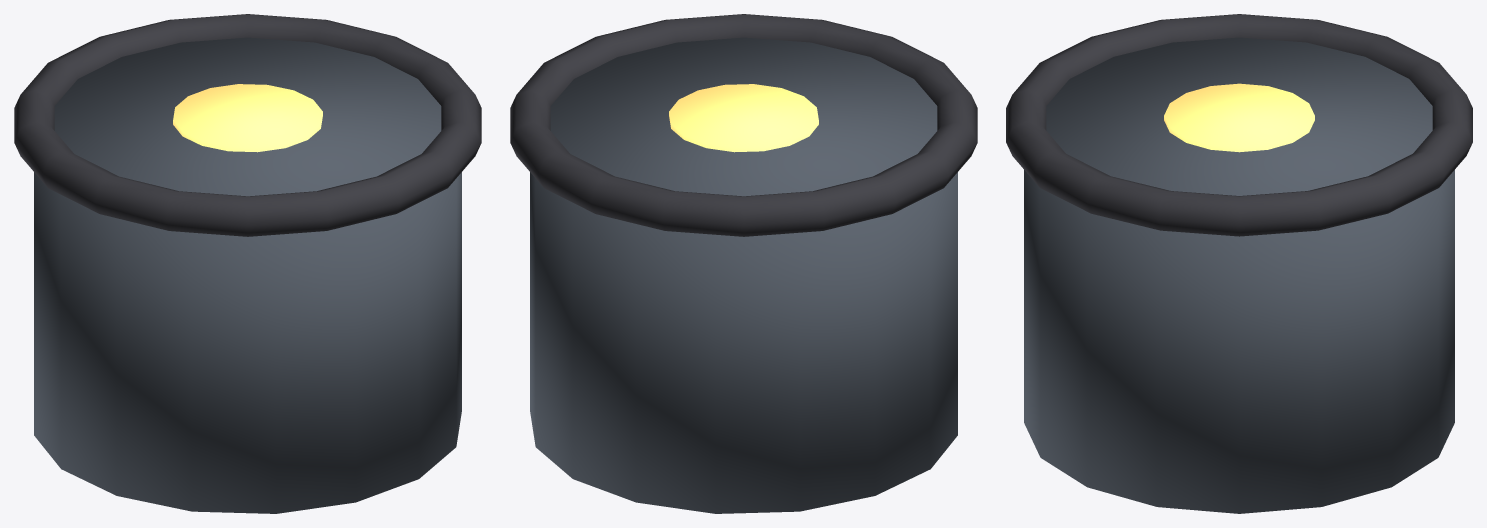
File: prop_hibachi.glb
3 views of the same model, side by side, from view 1: azimuth 30°, elevation 25°; view 2: azimuth 150°, elevation 25°; view 3: azimuth 270°, elevation 25° (orthographic).
Visible parts, largest first — view 1: hibachi; view 2: hibachi; view 3: hibachi.
Boxes of the visible parts, x1,y1,x2,y2 form: hibachi: (14,14,481,513); hibachi: (510,14,977,513); hibachi: (1006,14,1472,513).
Size of the model in its own units: 0.88 by 0.65 by 0.8666.
